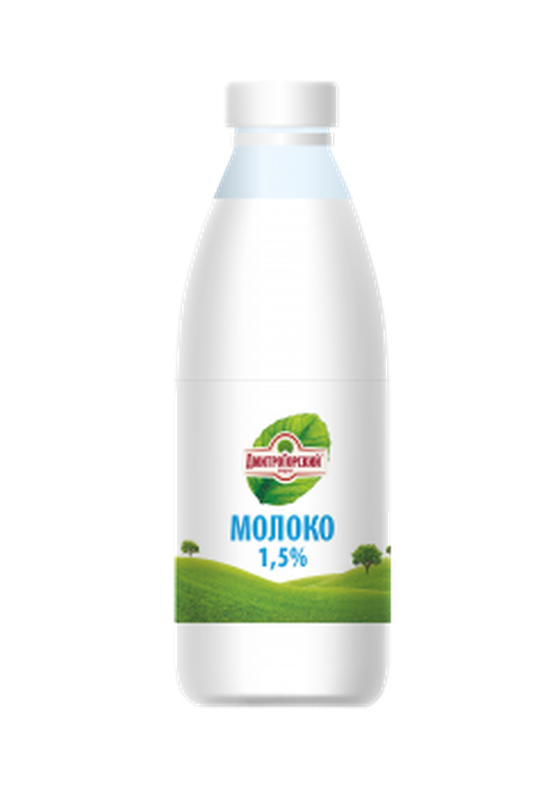milk: (105, 38, 438, 740)
